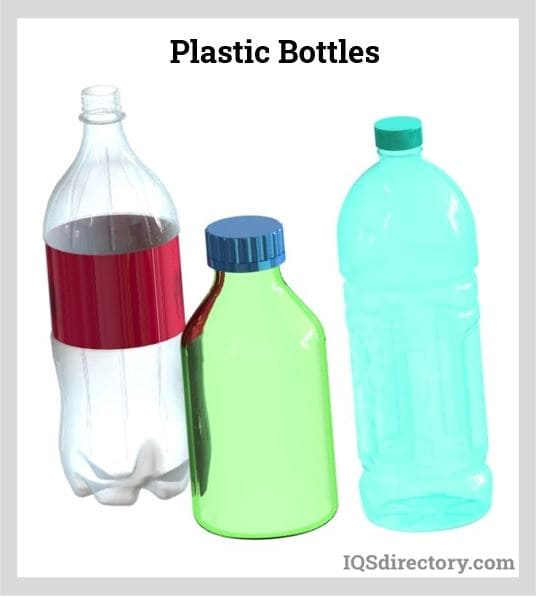plastic_bottle: (340, 108, 499, 529), (41, 86, 198, 503), (175, 204, 344, 538)
